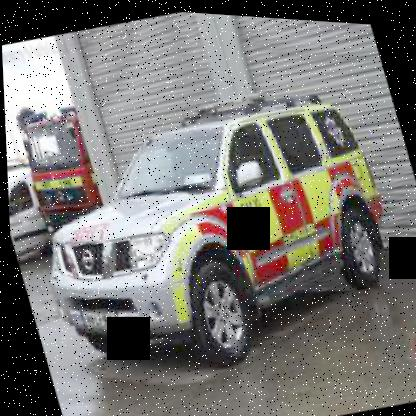emergency: (6, 58, 415, 407)
